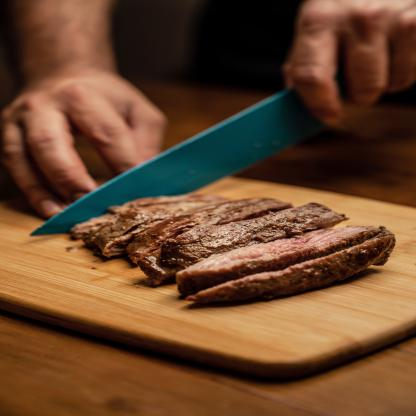Carne: (178, 226, 400, 305), (117, 197, 290, 264), (163, 200, 337, 258), (79, 195, 241, 244)
